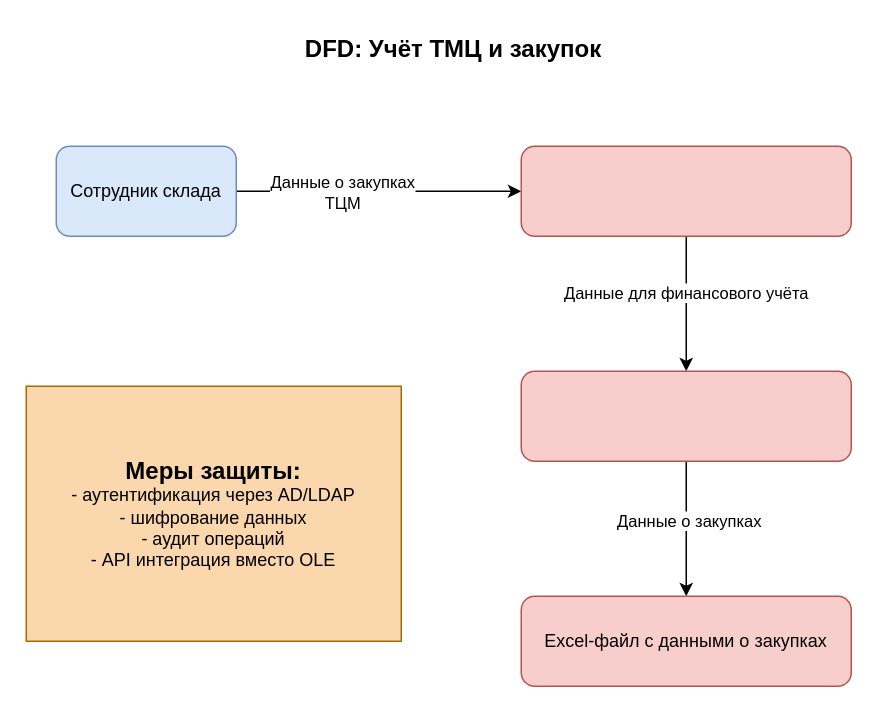
The diagram is 878 pixels wide and 713 high, and some of its shapes have lost their labels. The shapes that lost their labels are listed below. From the top down, each one's centre as x and y in pixels, then its label:
At [685,190]: "1C Торговля и склад".
At [685,415]: "1C Бухгалтерия предприятия".
